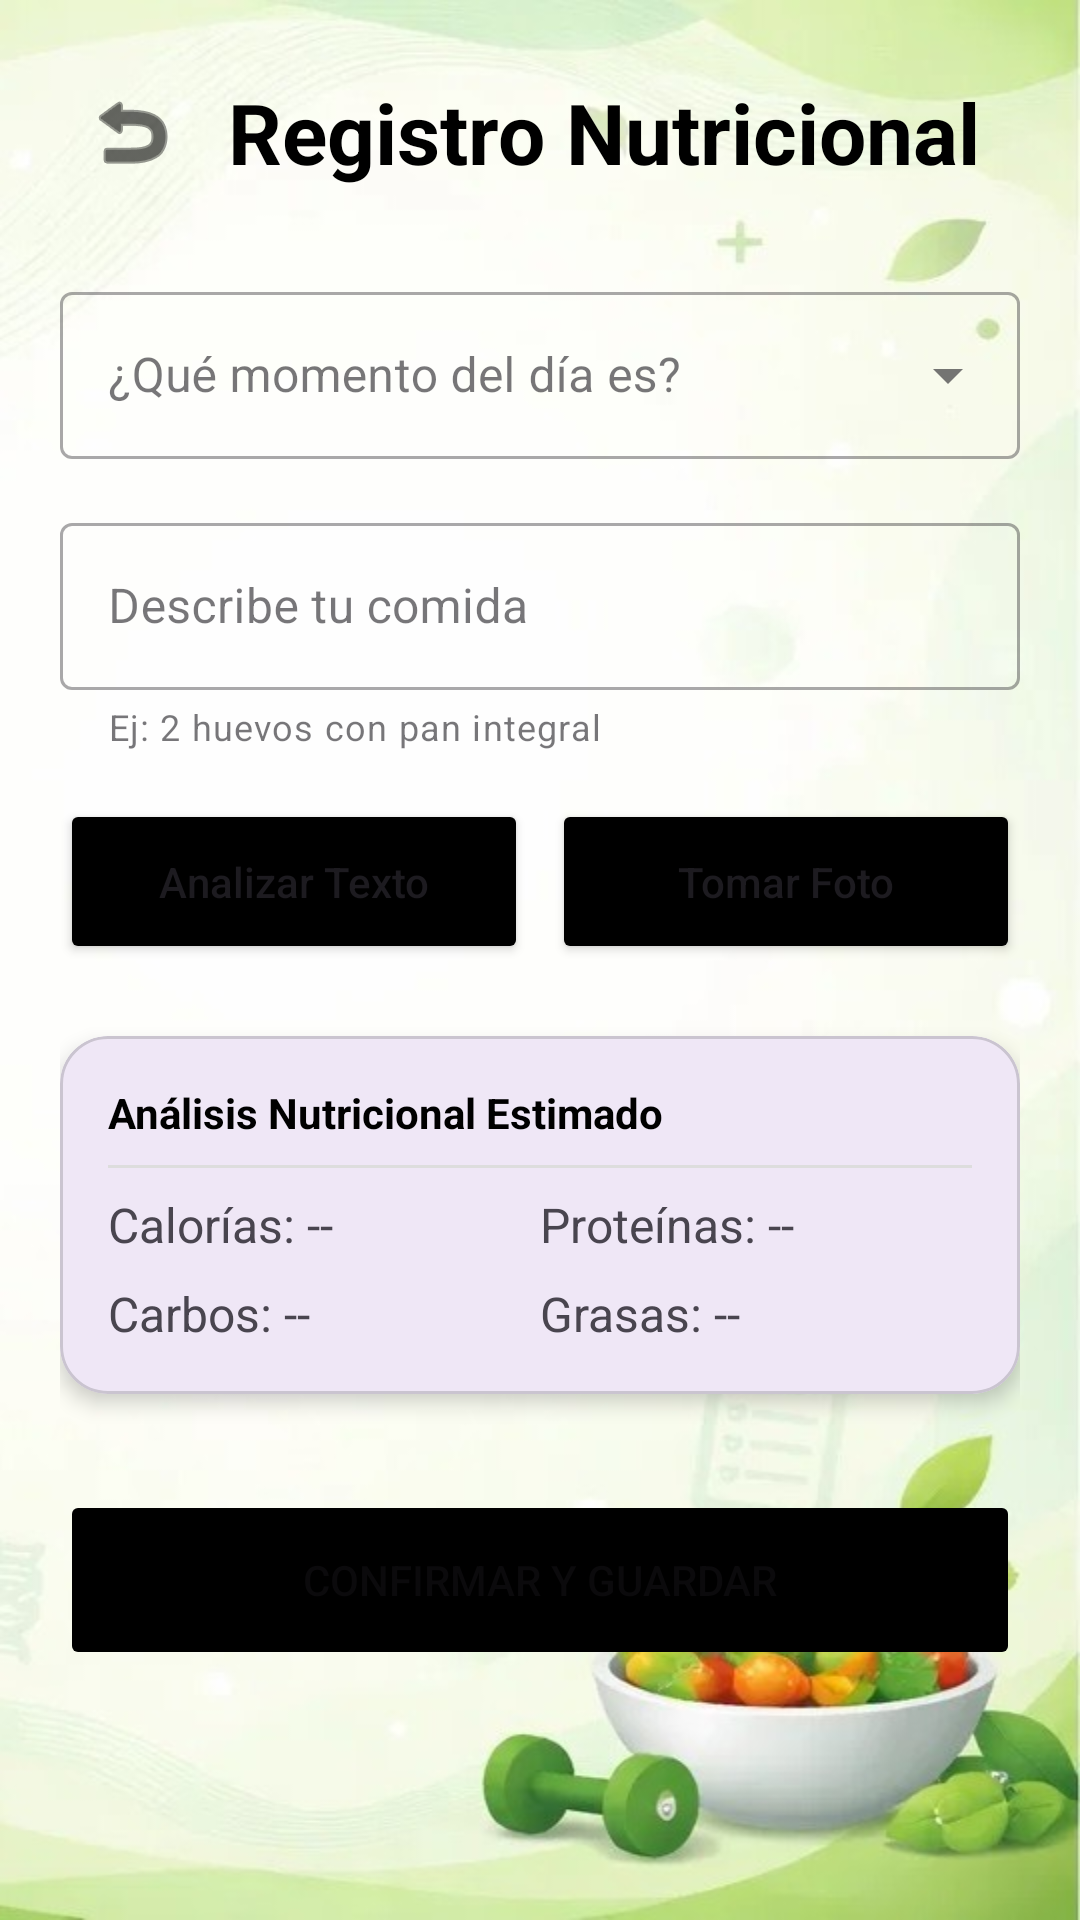

Icons on this 1080*1920 Android screen, each with its box as (x1, y1, x2, y2):
Volver al Perfil: (99, 101, 168, 164)
